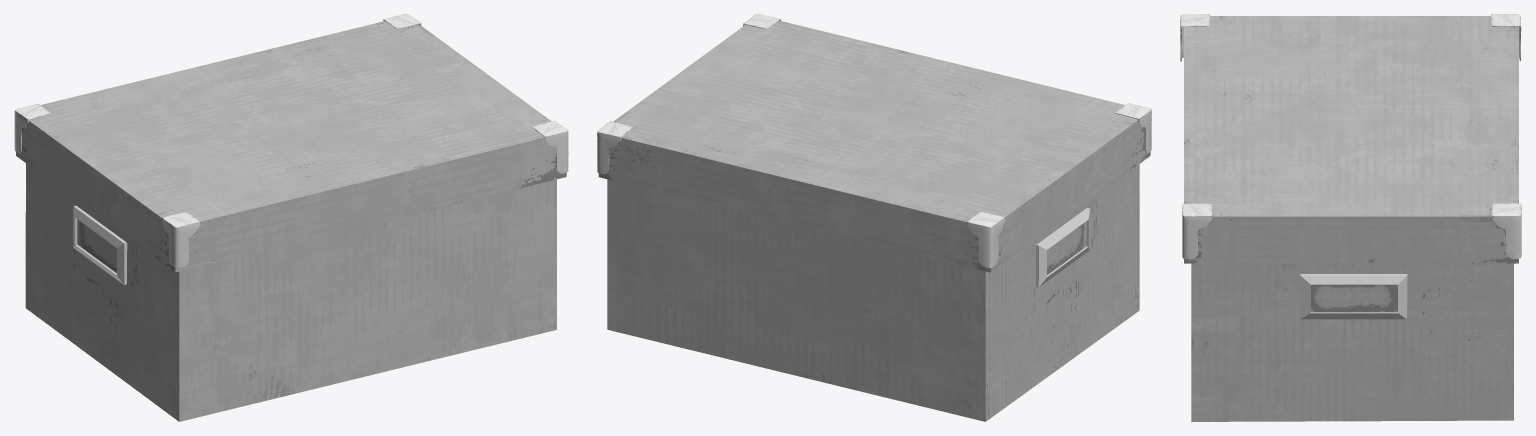
The picture shows the model from 3 angles, left to right: view 1: azimuth 30°, elevation 25°; view 2: azimuth 150°, elevation 25°; view 3: azimuth 270°, elevation 25°; orthographic projection. The views are drawn at different scales.
Parts seen in each view (by area): view 1: SM_Box_A4; view 2: SM_Box_A4; view 3: SM_Box_A4.
Boxes of the visible parts, <box> form: SM_Box_A4: <box>14,14,568,421</box>; SM_Box_A4: <box>597,14,1151,421</box>; SM_Box_A4: <box>1180,14,1521,421</box>.
Bounding box in the file's own units: 31.17 × 22.19 × 15.08.
1 material, 1 textured.
